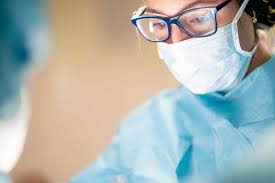masked: (130, 1, 261, 103)
